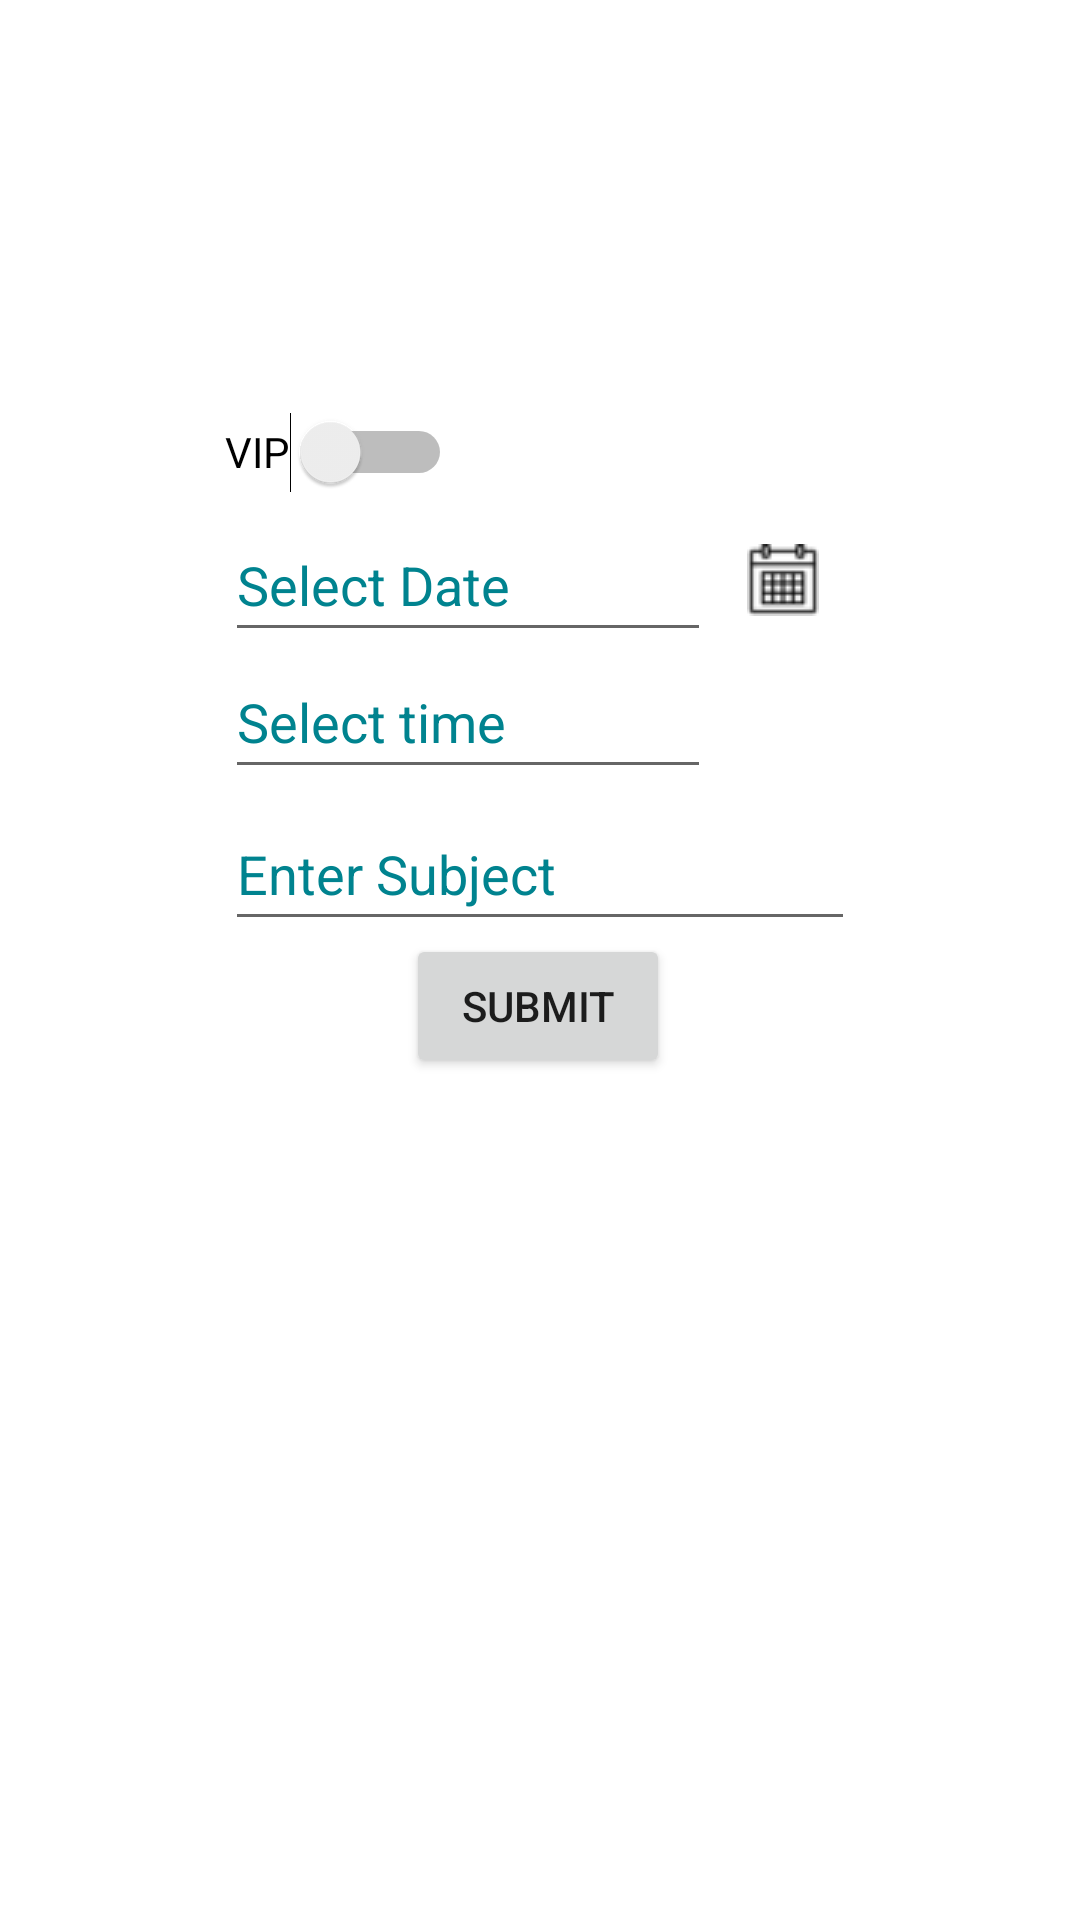

Point at icon controls on the screen. Image size 1080 × 1920, points as (x,y).
calendar: (783,580)
